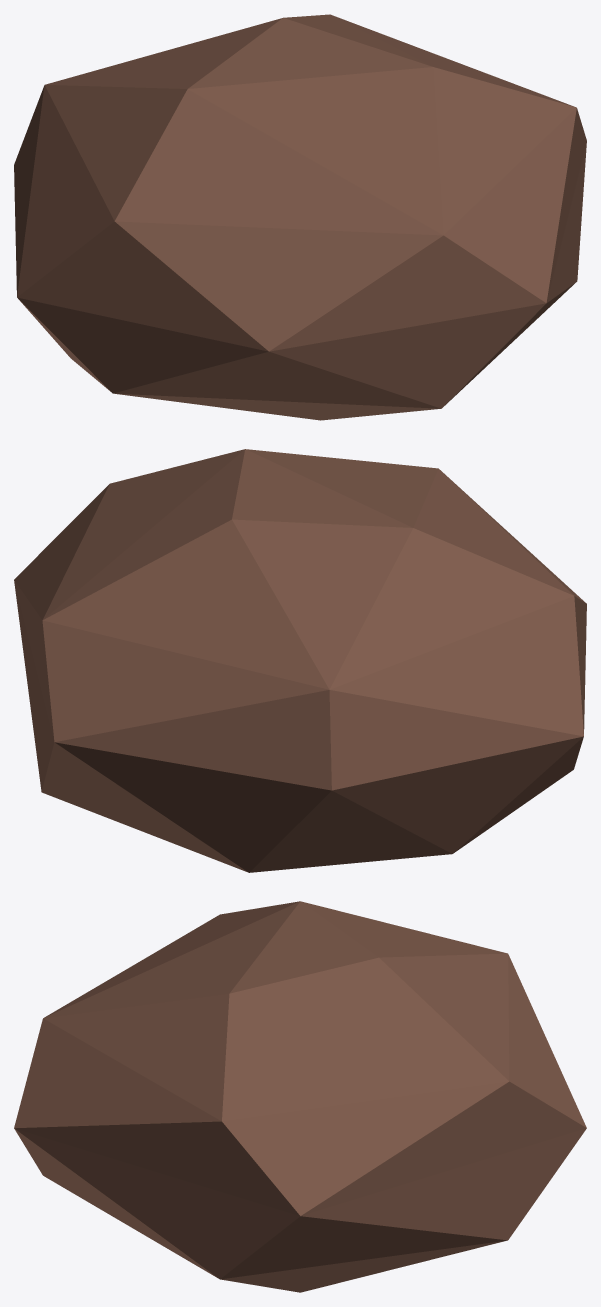
Rendered from rock.glb.
The picture shows the model from 3 angles, top to bottom: view 1: azimuth 30°, elevation 25°; view 2: azimuth 150°, elevation 25°; view 3: azimuth 270°, elevation 25°; orthographic projection. The views are drawn at different scales.
Visible parts, largest first — view 1: Icosphere; view 2: Icosphere; view 3: Icosphere.
Part boxes in pixels (x1,y1,x2,y2): Icosphere: (14,14,586,420); Icosphere: (14,449,586,872); Icosphere: (14,901,586,1292).
Size of the model in its own units: 5.36 by 2.95 by 5.09.
